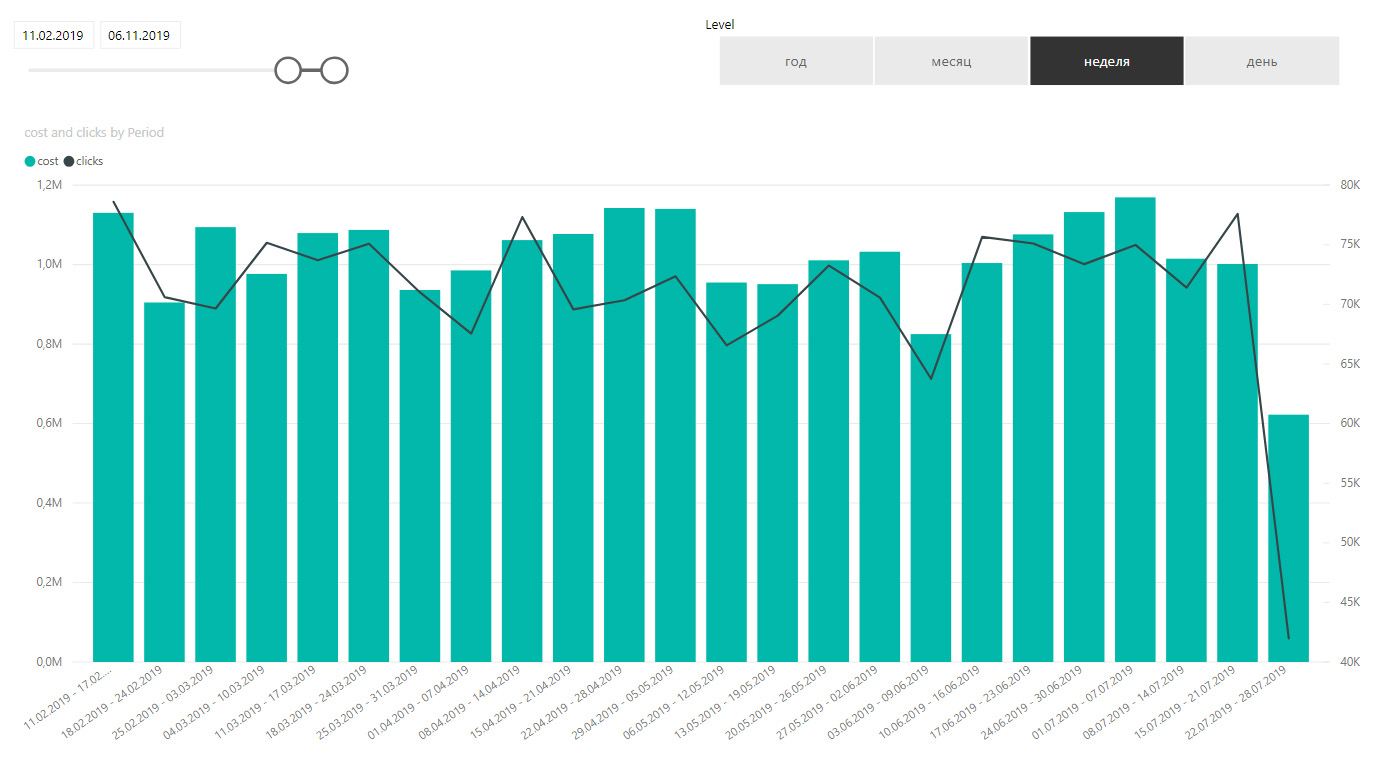

This screenshot's page, from the dashboard's own definition file:
{"tool":"powerbi","page":{"name":"Page 1","canvas":[1280,720],"ordinal":0},"visuals":[{"type":"lineStackedColumnComboChart","fields":{"Y":["Sum(sample.cost)"],"Y2":["Sum(sample.clicks)"],"Category":["_NewCalendar.Period"]},"box":[22,122.5,1240.1,565.1],"z":0},{"type":"slicer","fields":{"Values":["_NewCalendar.Level"]},"box":[639.1,17.3,622.9,76.3],"z":1000},{"type":"slicer","fields":{"Values":["Calendar.Date.Variation.Date Hierarchy.Year"]},"box":[0,17.3,332.8,76.3],"z":2000}]}

Visuals, with their boxes in screenshot pixels (x1, y1, x2, y2), scaled from the page's 1280x720 canvas onto the 1384x766 screenshot:
lineStackedColumnComboChart - Sum(sample.cost) x Sum(sample.clicks): <region>24, 130, 1365, 732</region>
slicer - _NewCalendar.Level: <region>691, 18, 1365, 100</region>
slicer - Calendar.Date.Variation.Date Hierarchy.Year: <region>0, 18, 360, 100</region>
